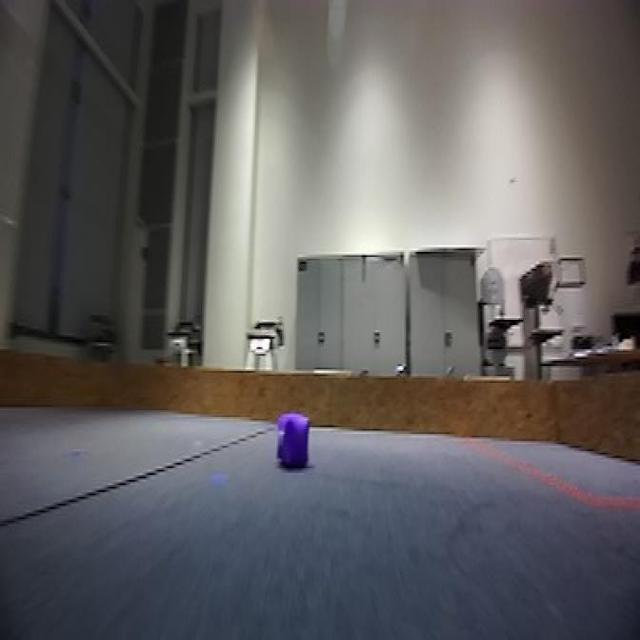frc_cube: (274, 412, 312, 477)
